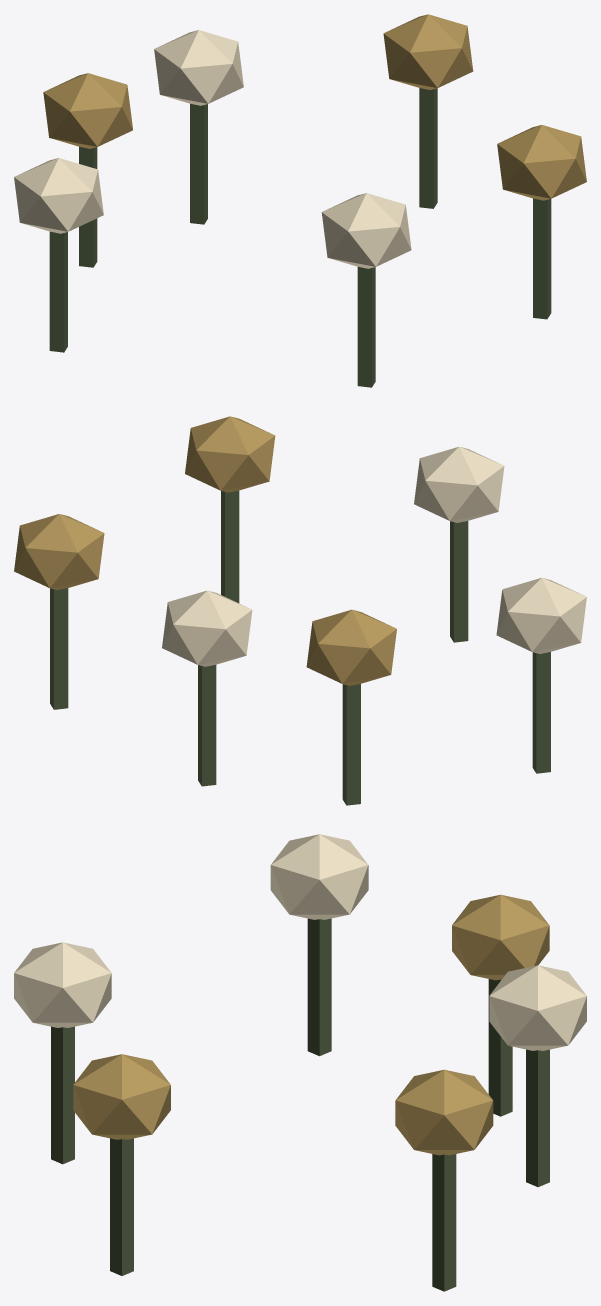
File: flowers.glb
3 renders of one model, top to bottom at view 1: azimuth 30°, elevation 25°; view 2: azimuth 150°, elevation 25°; view 3: azimuth 270°, elevation 25°, orthographic. The views are drawn at different scales.
Visible parts, largest first — view 1: flowers; view 2: flowers; view 3: flowers.
Part boxes in pixels (x1,y1,x2,y2): flowers: (14,14,586,387); flowers: (14,416,586,805); flowers: (14,834,586,1291).
Bounding box in the file's own units: 1.38 × 0.5 × 1.2.
